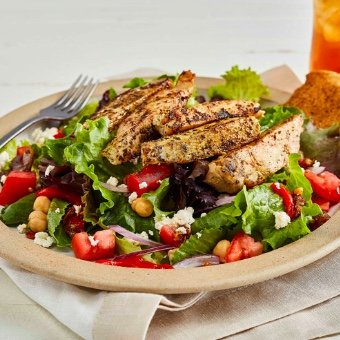burger: (0, 73, 100, 149)
curry: (206, 64, 270, 102)
soup: (283, 70, 340, 172)
